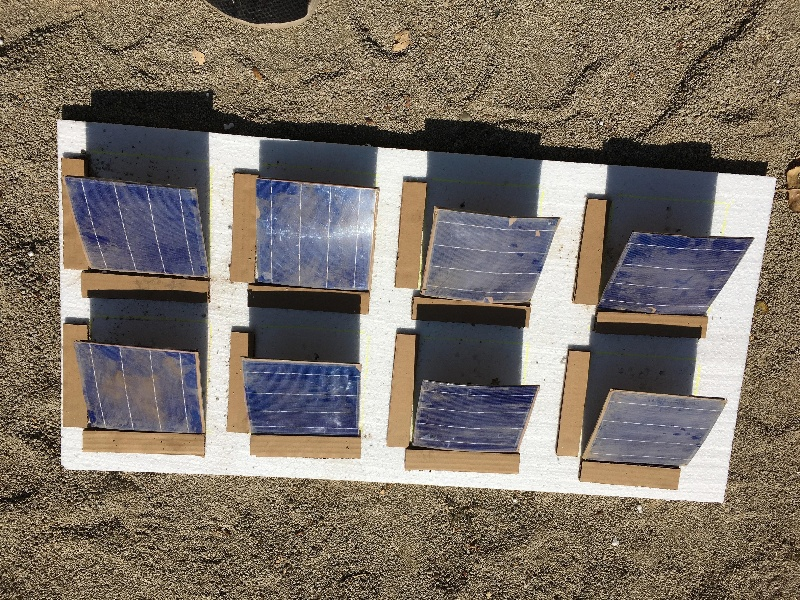dirty: (416, 210, 562, 309), (257, 174, 374, 296), (596, 230, 753, 317), (74, 343, 205, 440), (586, 389, 727, 469)
semi: (61, 172, 209, 284), (236, 356, 367, 438), (416, 380, 542, 454)
